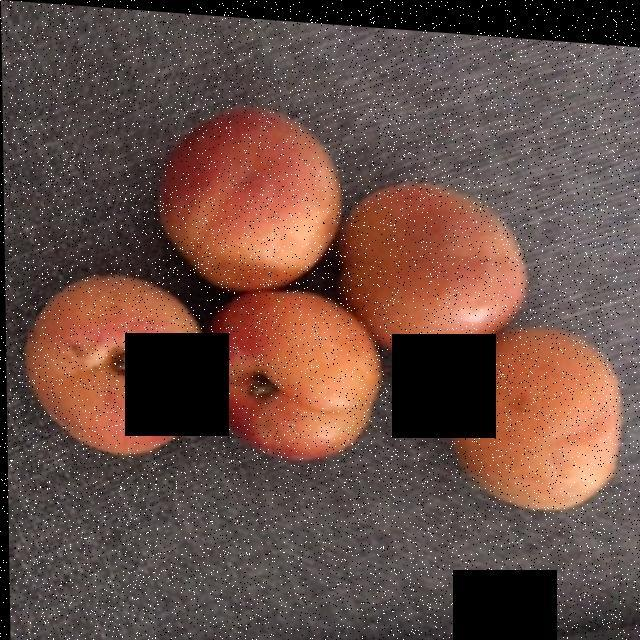apricots: (46, 105, 604, 497)
